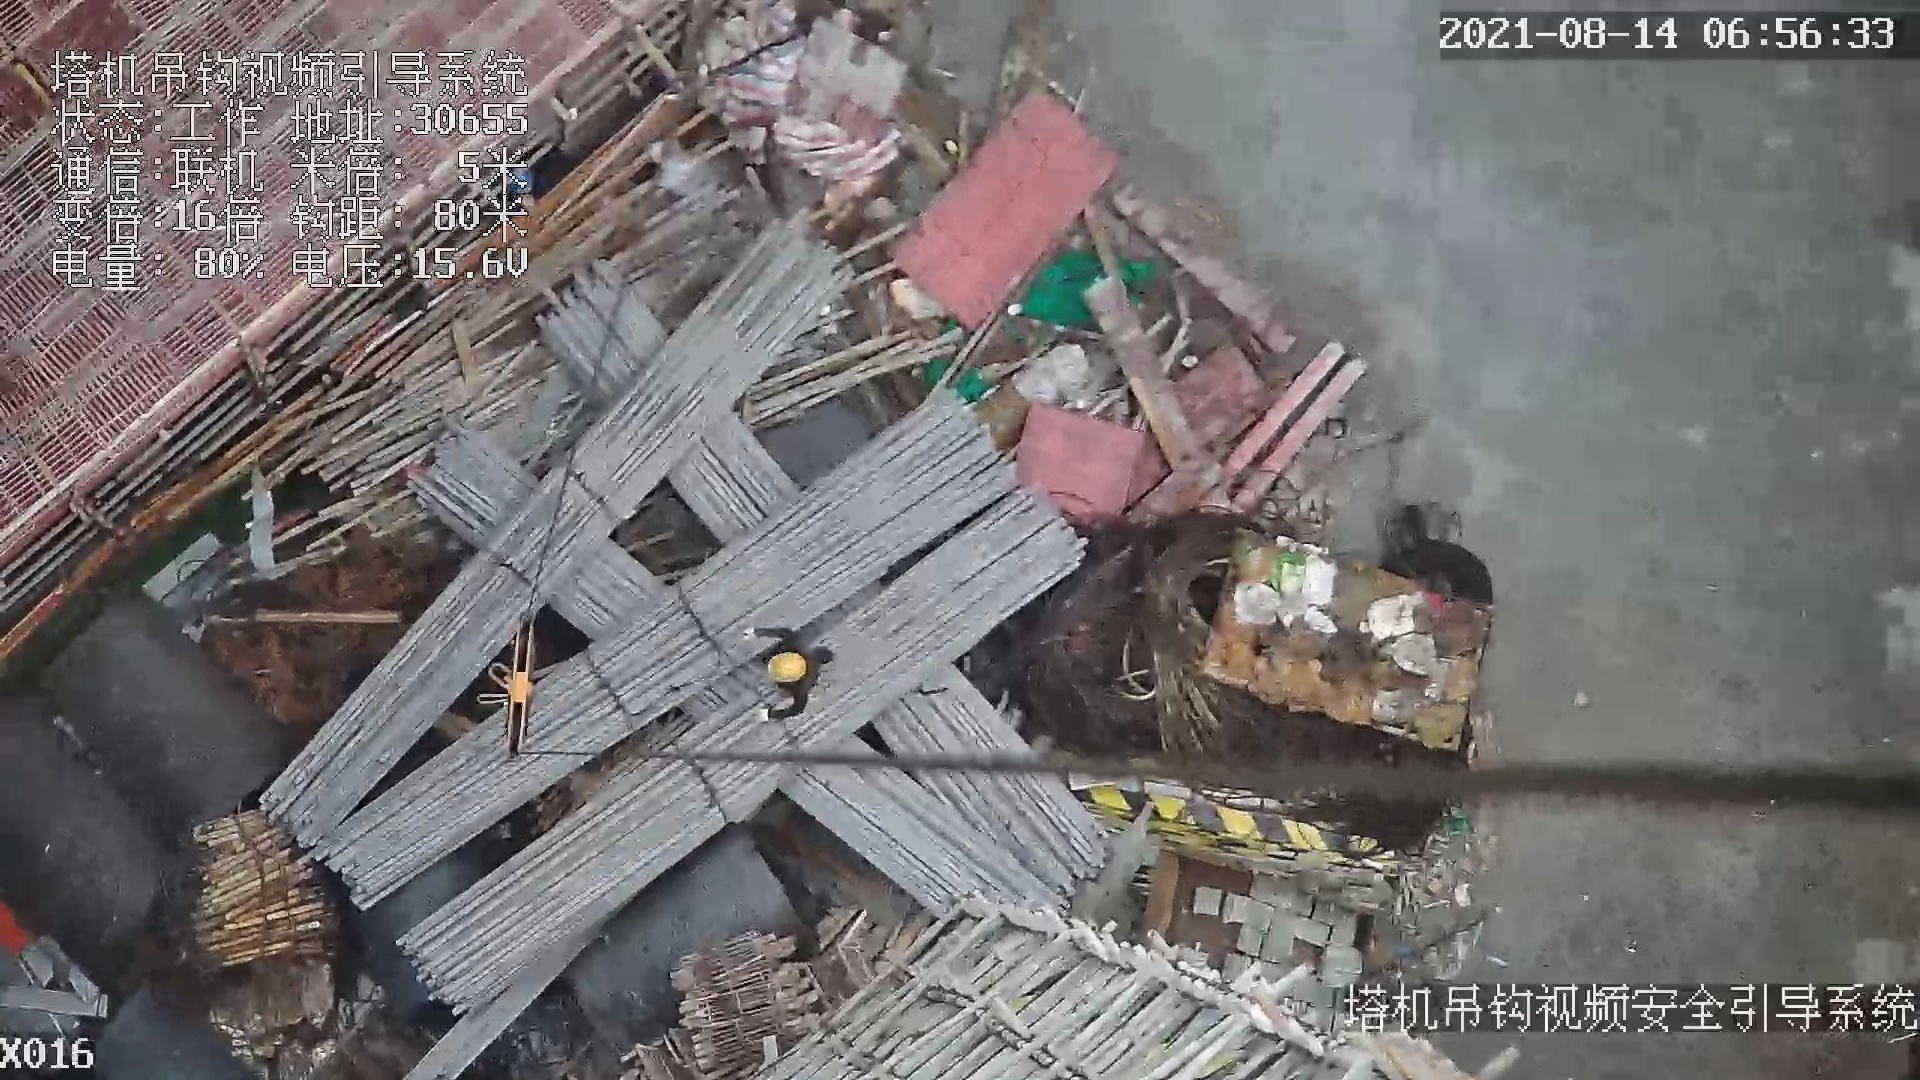helmet: (768, 652, 806, 681)
hook: (474, 615, 542, 758)
person: (738, 621, 831, 719)
rebar: (259, 216, 858, 845), (311, 392, 1023, 919), (402, 488, 1081, 1014), (779, 738, 1073, 926), (874, 668, 1112, 884)
wood: (188, 811, 339, 965)
